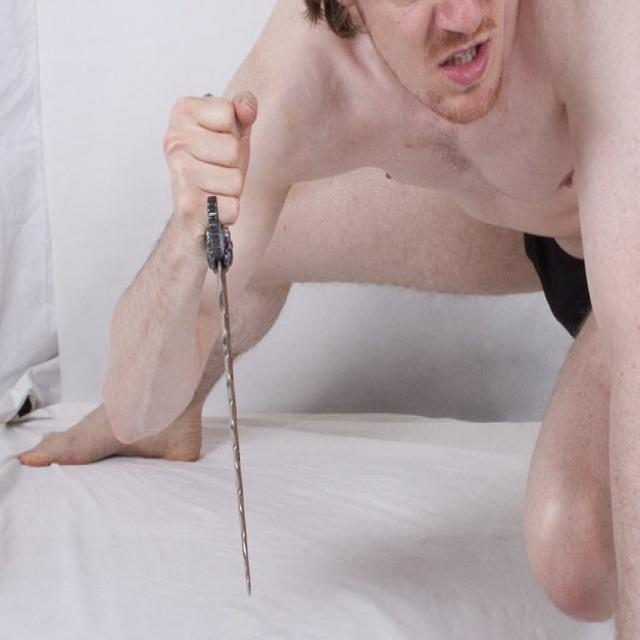knife: (197, 200, 266, 600)
